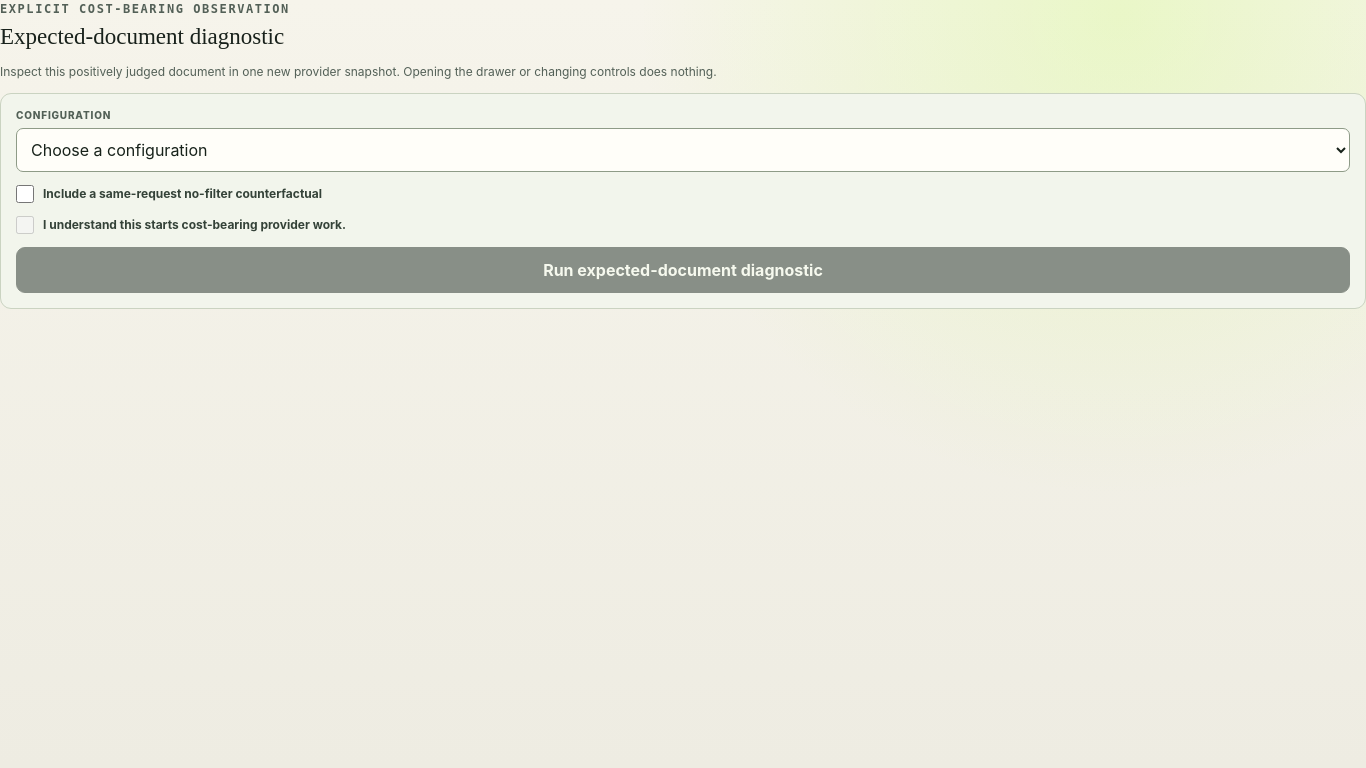
Test: ExpectedDocumentDiagnostic › separates same-request no-filter evidence and locally evaluated filter facts
The width and height of the screenshot is (1366, 768).
Select "BM25" in the dropdown labelled "Configuration" at (683, 150), box [16,128,1350,172]
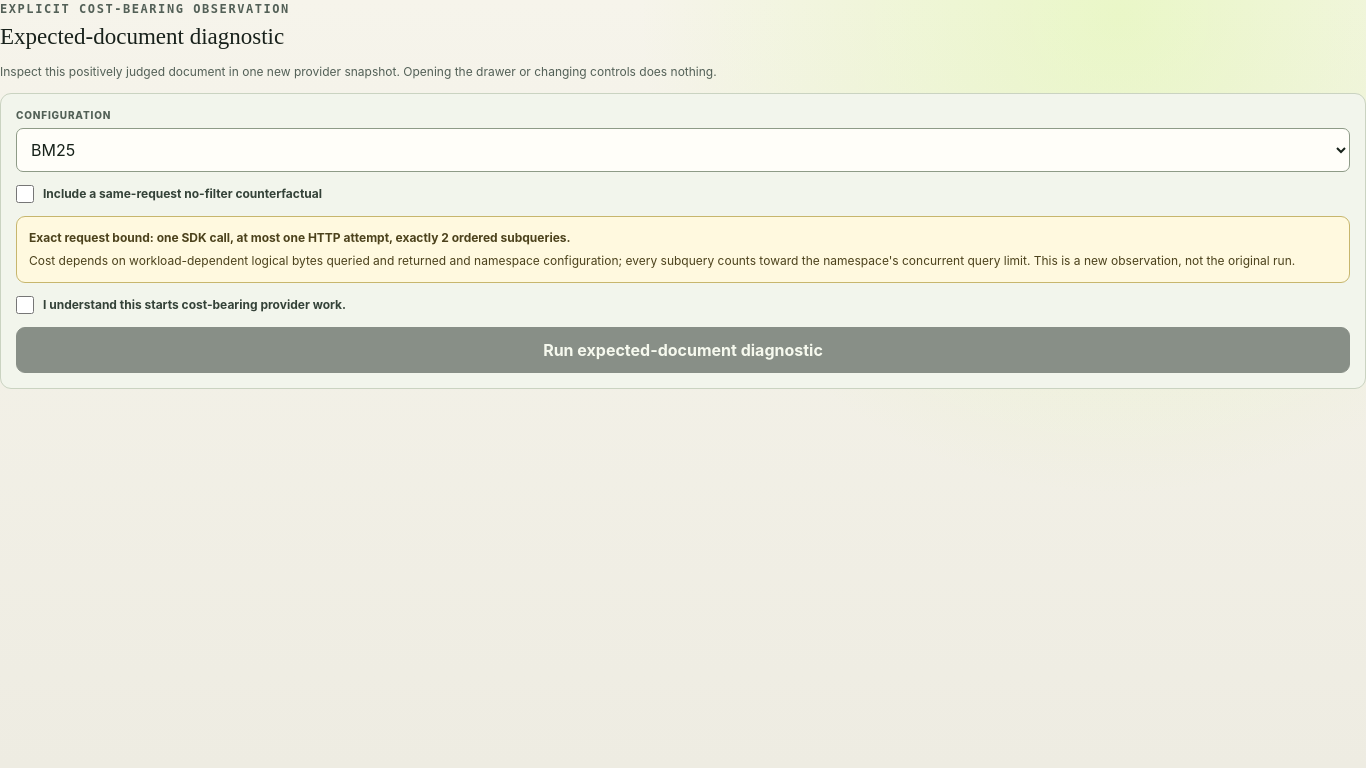
Click the checkbox labelled "Include a same-request no-filter counterfactual" at (25, 194), box [16,185,34,203]
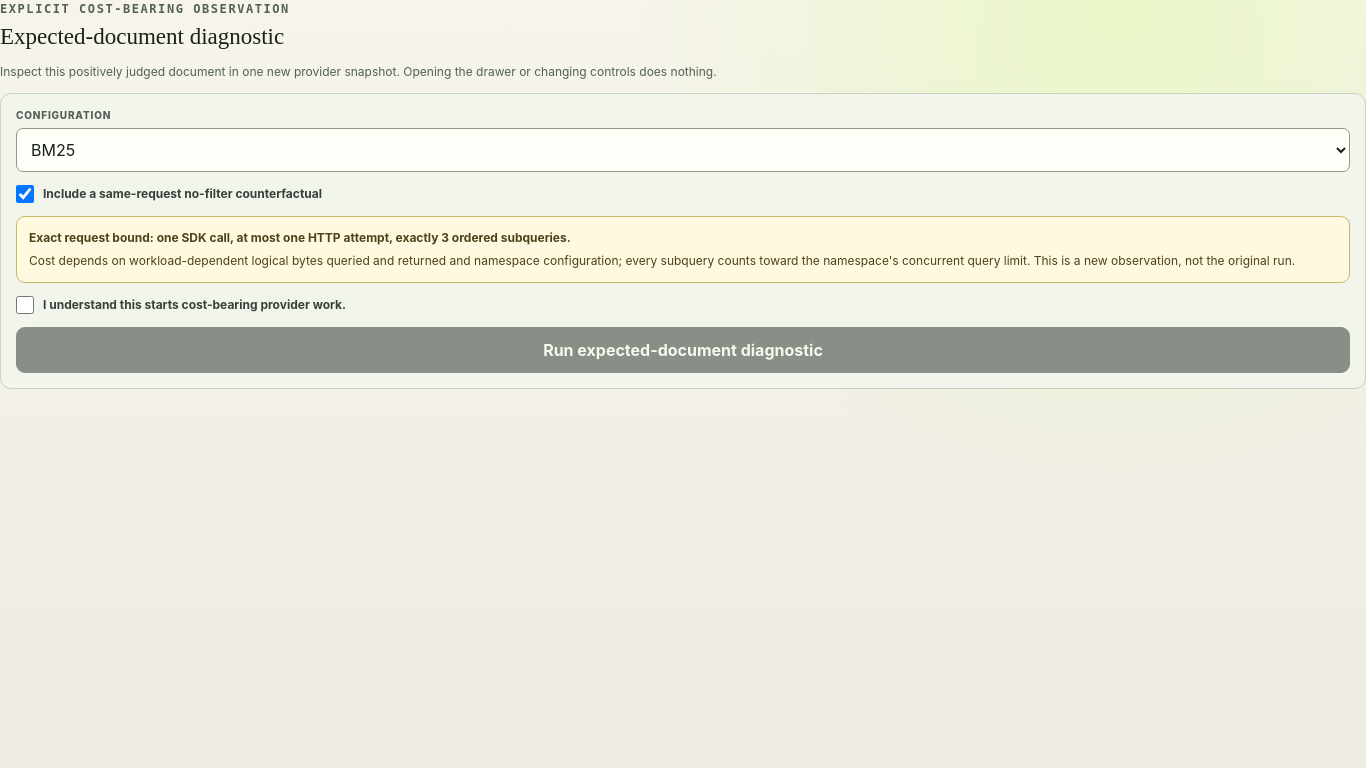
Click the checkbox labelled "I understand this starts cost-bearing provider work." at (25, 305), box [16,296,34,314]
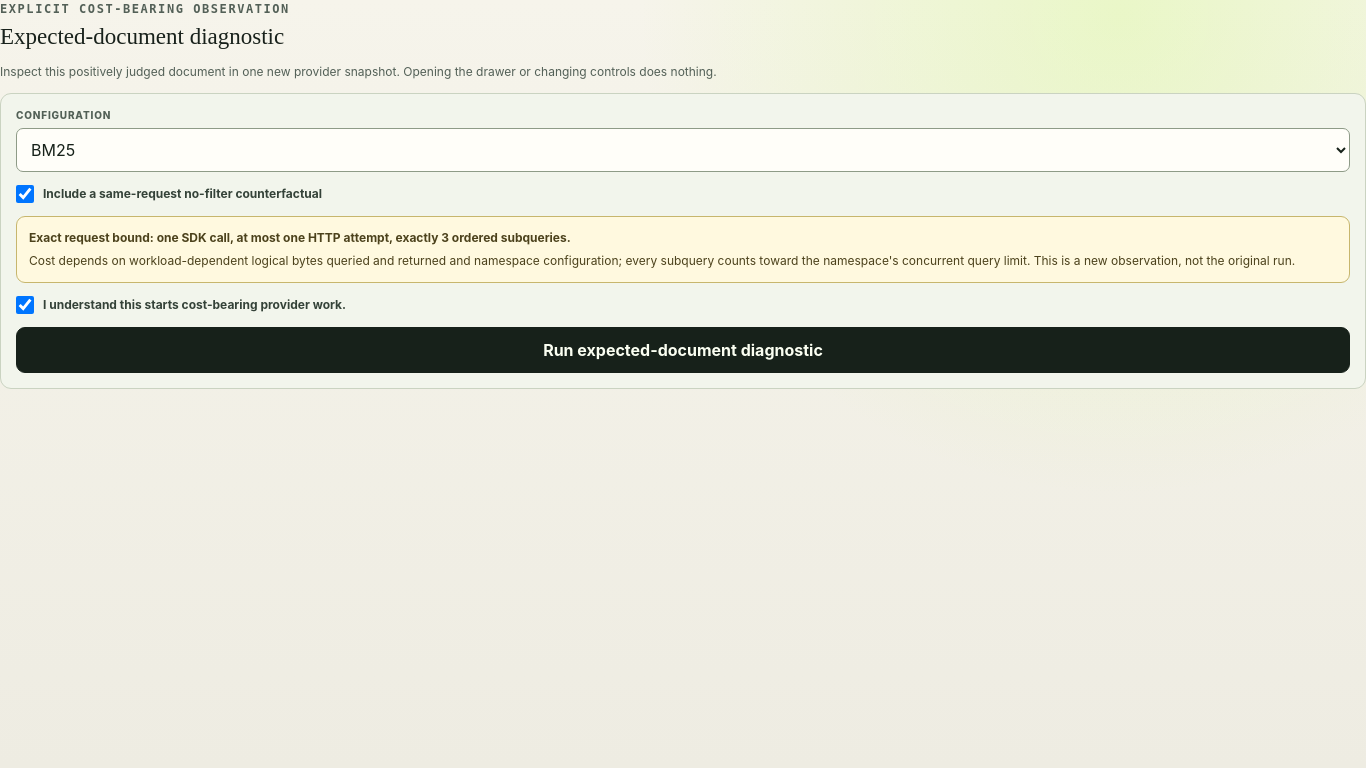
Click the button "Run expected-document diagnostic" at (683, 350), box [16,327,1350,373]
(page scrolled)
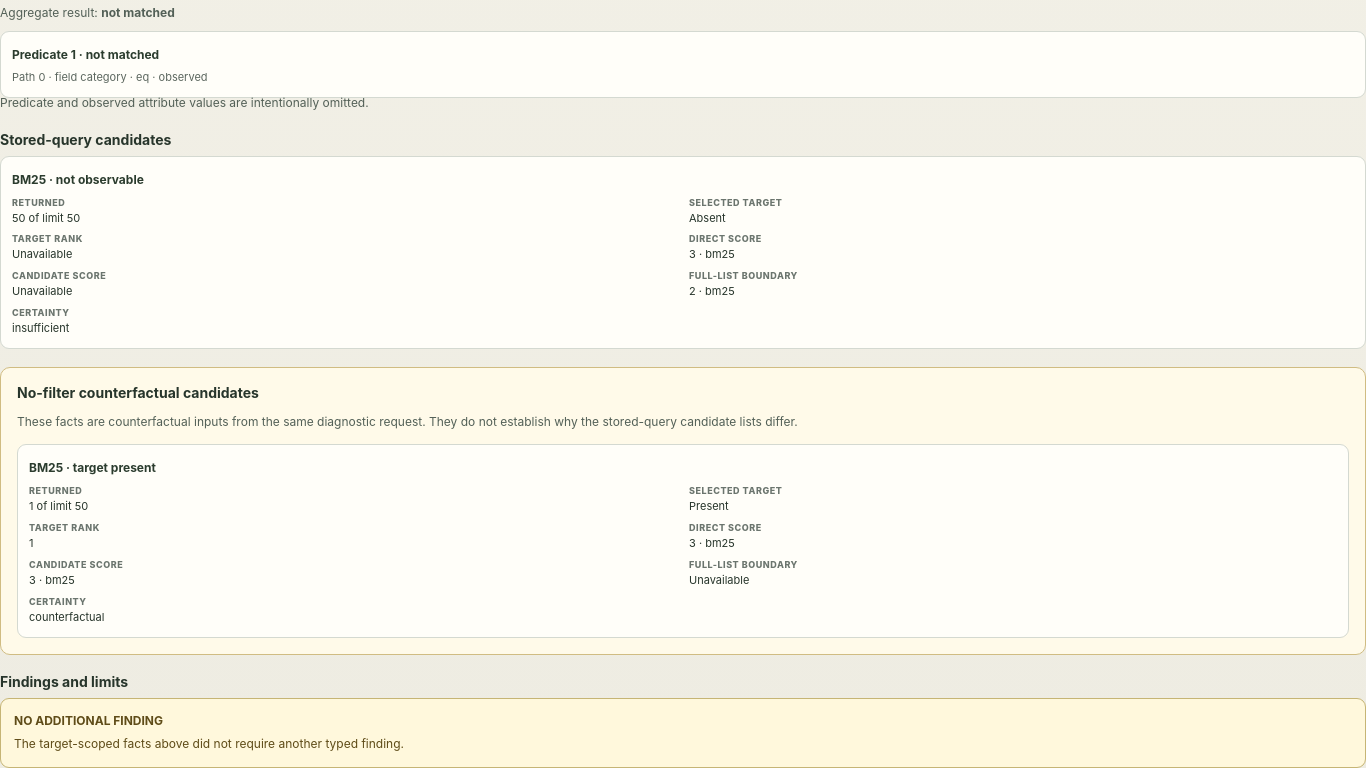
Now the heading "No-filter counterfactual candidates" is shown, box [17,384,259,401]
Now the text "do not establish why the stored-query candidate lists differ" is shown, box [17,414,798,429]
Now the text "Aggregate result: not matched" is shown, box [0,5,175,20]
